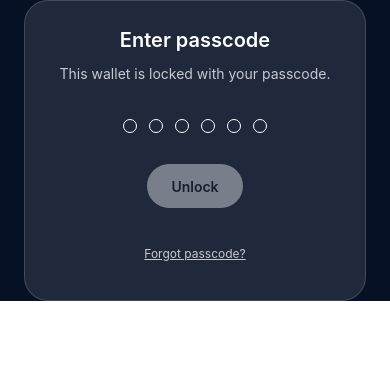
Scenario: lock screen (unlock flow) › a wrong passcode shows the spec message and clears the input
Replace the text in the password field named "Passcode" with "571936". click: coordinates (195, 164)
box: [123,119,267,208]
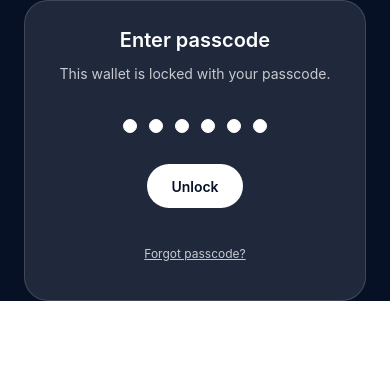
Click the button "Unlock". click: coordinates (195, 186)
box: [147,164,243,208]
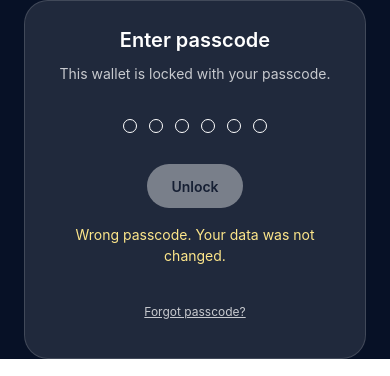
Expected: the form named "Passcode" is empty, [123,119,267,208]
Expected: the message reads "Wrong passcode. Your data was not changed.", [76,226,315,264]
